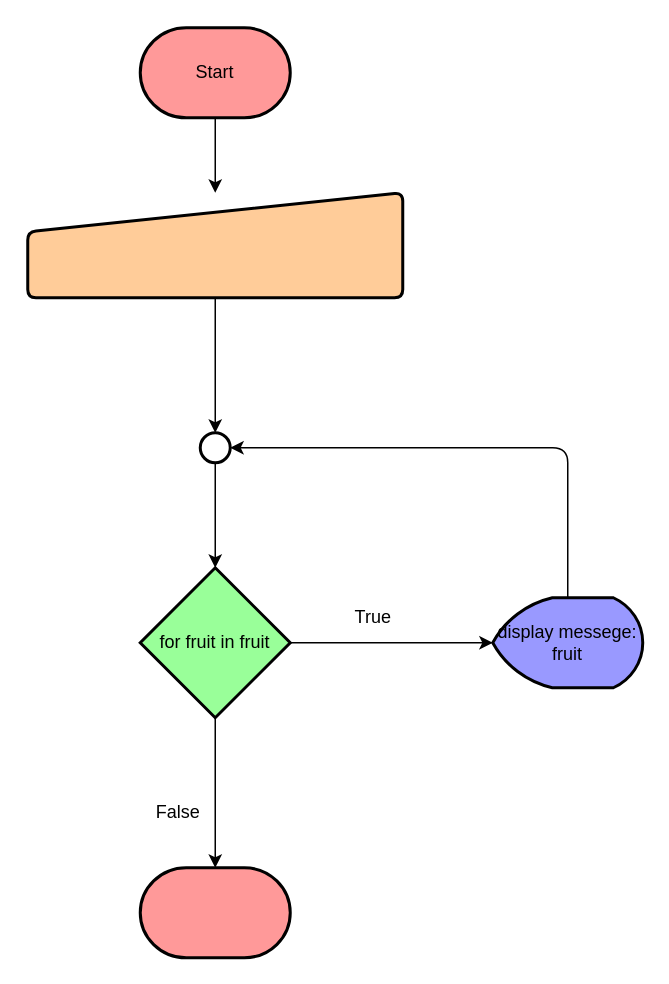
This 669x984 diagram has some shape labels left out. The box of each missing label's shape, as (x1, y1, x2, y2) in pixels:
fruits = ["apple", "banana", "cherry"]: (26, 190, 404, 298)
Stop: (138, 866, 291, 958)
